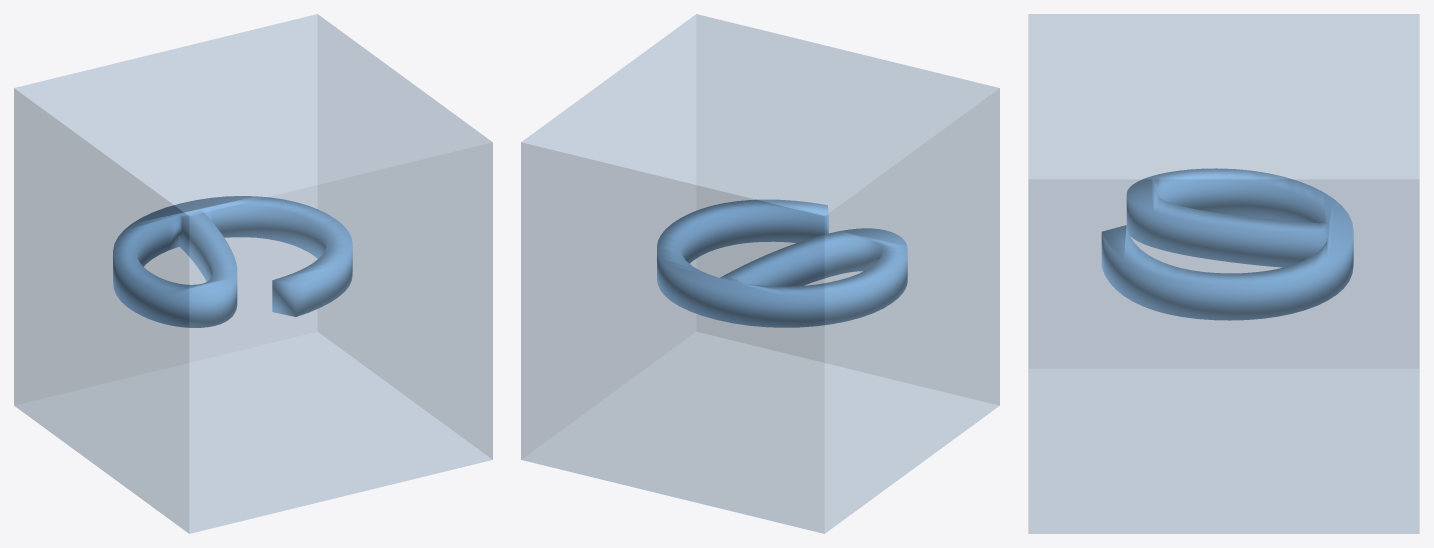
Rendered from Title_Ice4.obj.
3 renders of one model, left to right at view 1: azimuth 30°, elevation 25°; view 2: azimuth 150°, elevation 25°; view 3: azimuth 270°, elevation 25°, orthographic. The views are drawn at different scales.
Parts seen in each view (by area): view 1: 4.の; view 2: 4.の; view 3: 4.の.
Part boxes in pixels (x1,y1,x2,y2): 4.の: (14, 14, 492, 533); 4.の: (521, 14, 999, 533); 4.の: (1028, 14, 1419, 533).
Size of the model in its own units: 2 by 2 by 2.
Materials: 1 (1 with a texture image).
